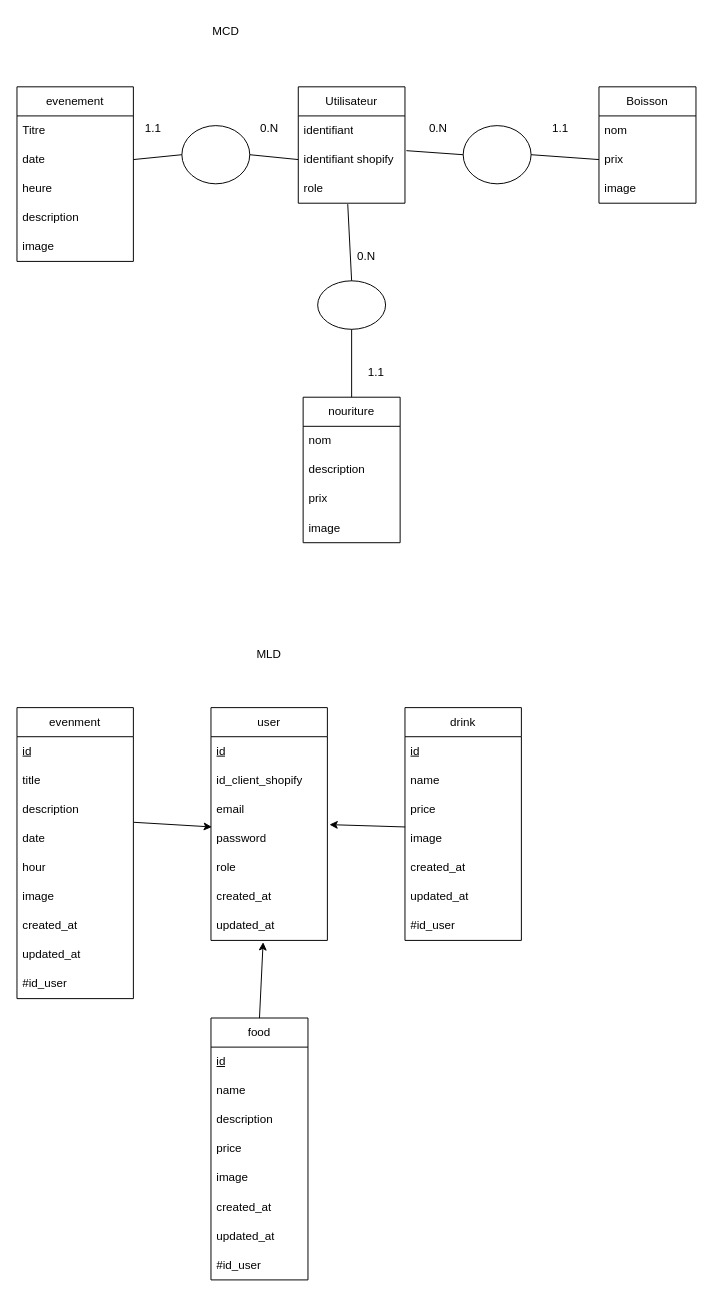
Image size: 713x1297. Some labels were removed from this diagram. The shapes that lost their labels are listed below. From the top down, each one's centre as x and y in pixels, then its label:
the point at 215,154: administrer
the point at 496,154: créer
the point at 351,304: gérer
